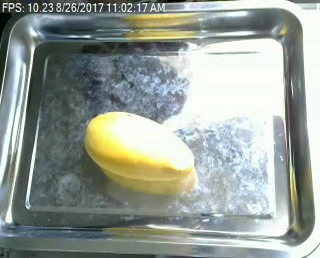Mango: (82, 112, 198, 187)
